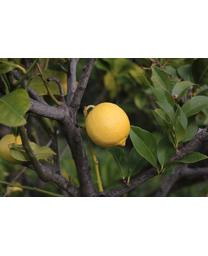lemon: (84, 102, 130, 148)
